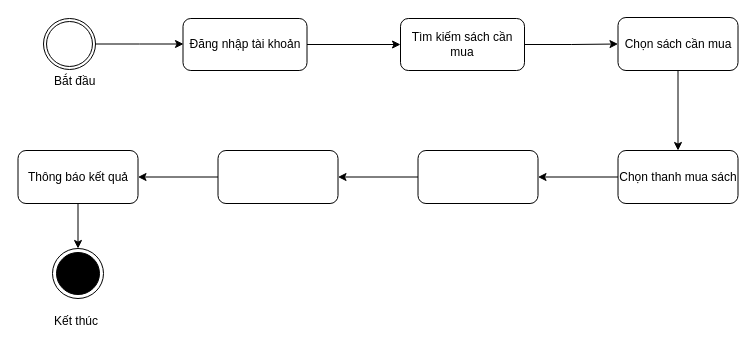
Some shapes in this 755 by 346 pixel diagram are drawn without their labels. Here are the shapes that lost their labels. From the top down, the centre of each, then its label:
At pixel 277 177: "Hệ thống kiếm tra số dư tài khoản".
At pixel 477 177: "Chọn hình thức thanh toán".
